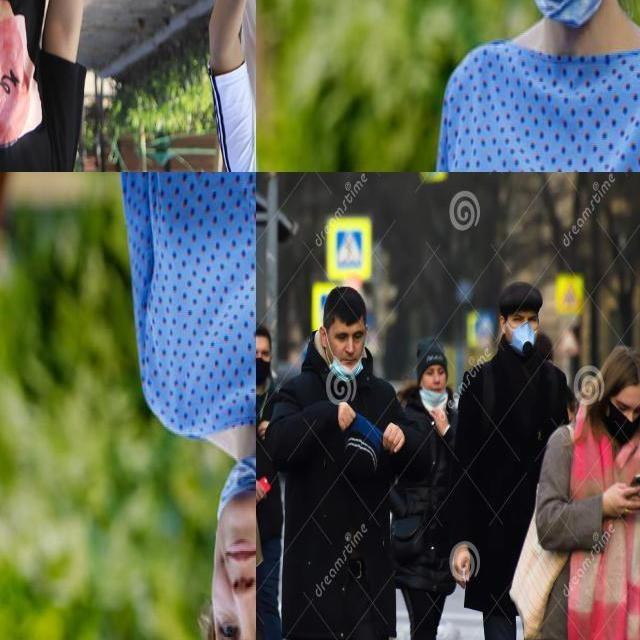hairnet: (327, 338, 366, 381), (421, 377, 449, 406)
